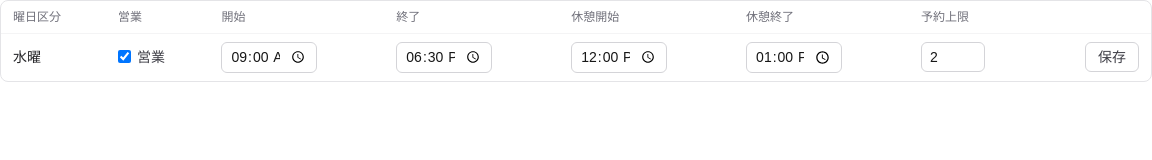
Test: BusinessHourEditor: 保存操作で Server Action を呼ぶ › 保存成功で『保存しました』が表示される
Click the button "保存" at {"x": 1112, "y": 57}, box [1085,42,1139,72]
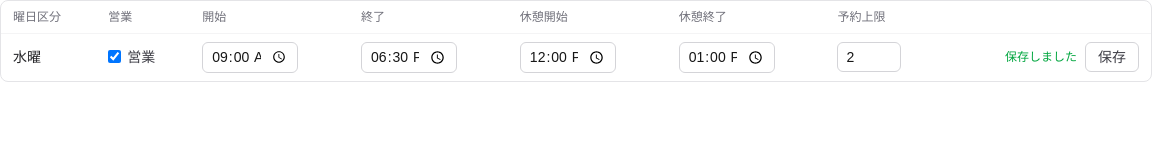
Result: the text "保存しました" is shown at [1005,49,1077,65]
